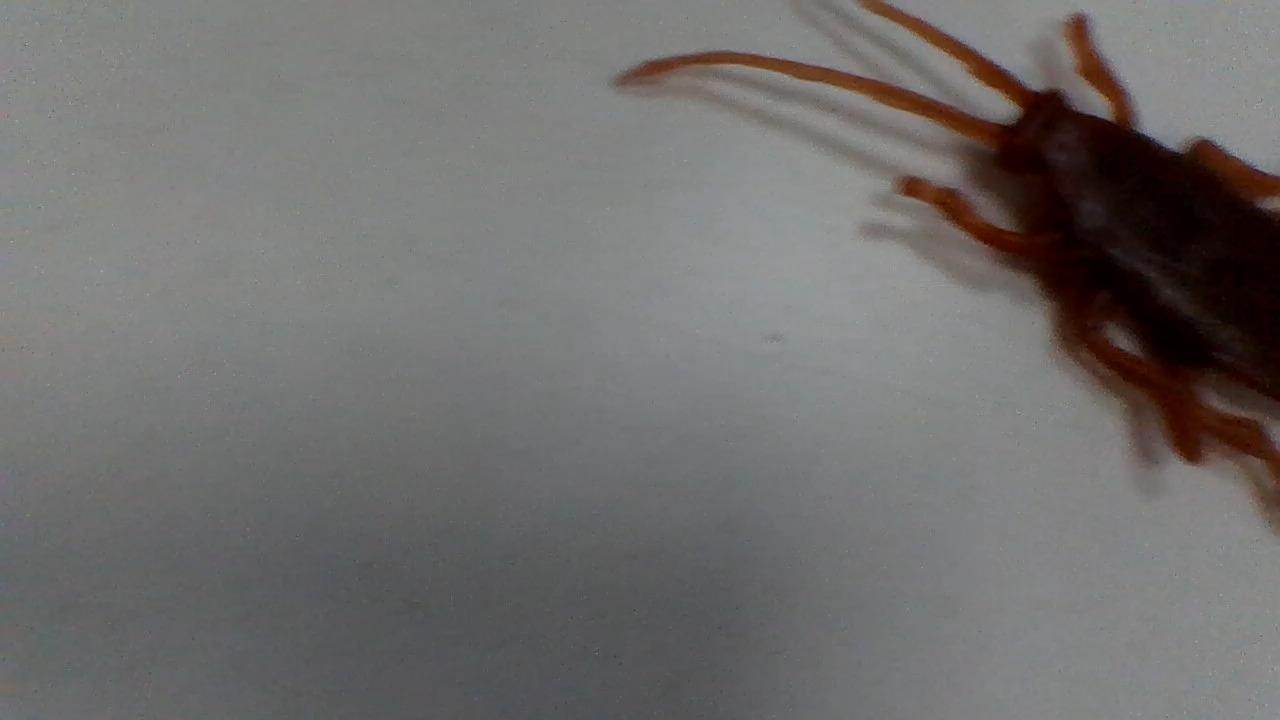cockroach: (615, 0, 1280, 498)
